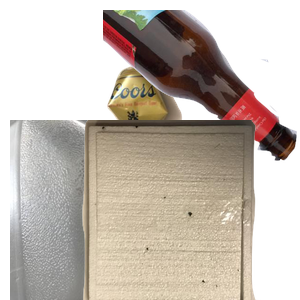glass: (103, 10, 300, 163)
metal: (105, 63, 300, 192)
plastic: (10, 120, 190, 300)
trash: (80, 120, 300, 300)
